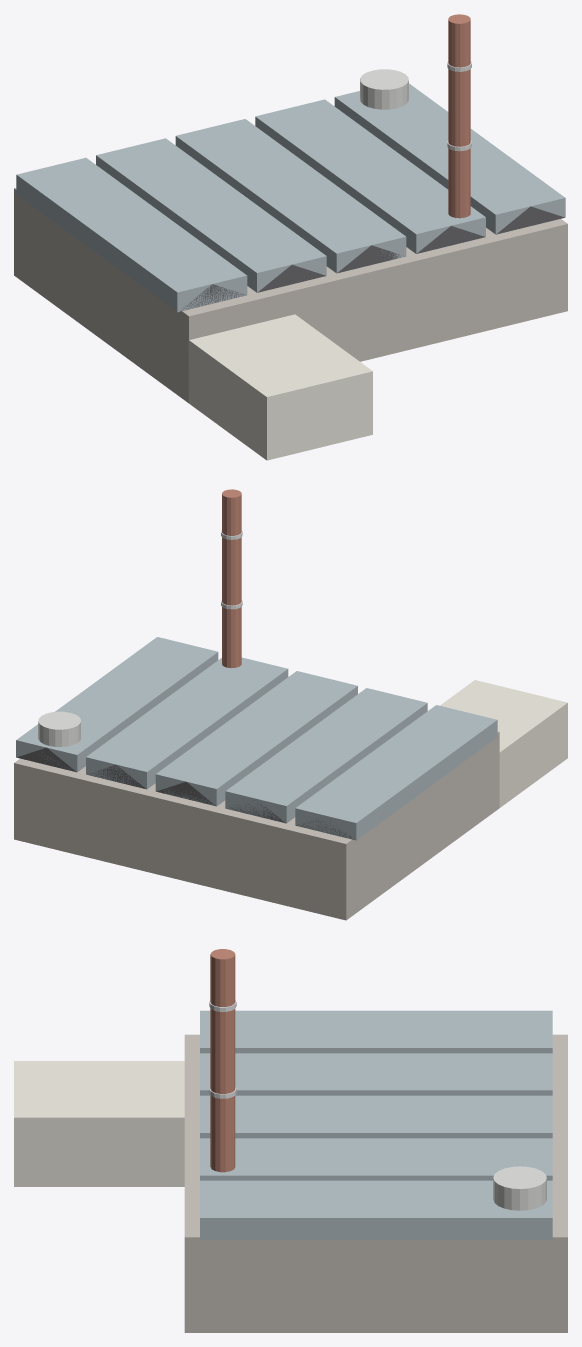
File: factory.glb
3 renders of one model, top to bottom at view 1: azimuth 30°, elevation 25°; view 2: azimuth 150°, elevation 25°; view 3: azimuth 270°, elevation 25°, orthographic. The views are drawn at different scales.
Parts seen in each view (by area): view 1: Cube.001, Cube, Cube.006, Cylinder.001, m, Cylinder; view 2: Cube.001, Cube, Cube.006, Cylinder.001, m, Cylinder; view 3: Cube.001, Cube, Cube.006, Cylinder.001, Cylinder.
Boxes of the visible parts, box(x1,y1,x2,y2) form: Cube.001: box(16, 83, 565, 312); Cube: box(14, 188, 567, 403); Cube.006: box(188, 314, 372, 460); Cylinder.001: box(448, 14, 470, 218); m: box(180, 206, 564, 311); Cylinder: box(360, 69, 408, 109); Cube.001: box(16, 637, 497, 840); Cube: box(14, 731, 499, 920); Cube.006: box(440, 680, 567, 807); Cylinder.001: box(222, 489, 241, 668); m: box(16, 747, 354, 839); Cylinder: box(38, 711, 80, 746); Cube.001: box(200, 1010, 552, 1239); Cube: box(184, 1034, 567, 1332); Cube.006: box(14, 1061, 184, 1186); Cylinder.001: box(210, 949, 235, 1172); Cylinder: box(493, 1166, 546, 1210).
Bounding box in the file's own units: 51.2 × 38 × 57.8.
